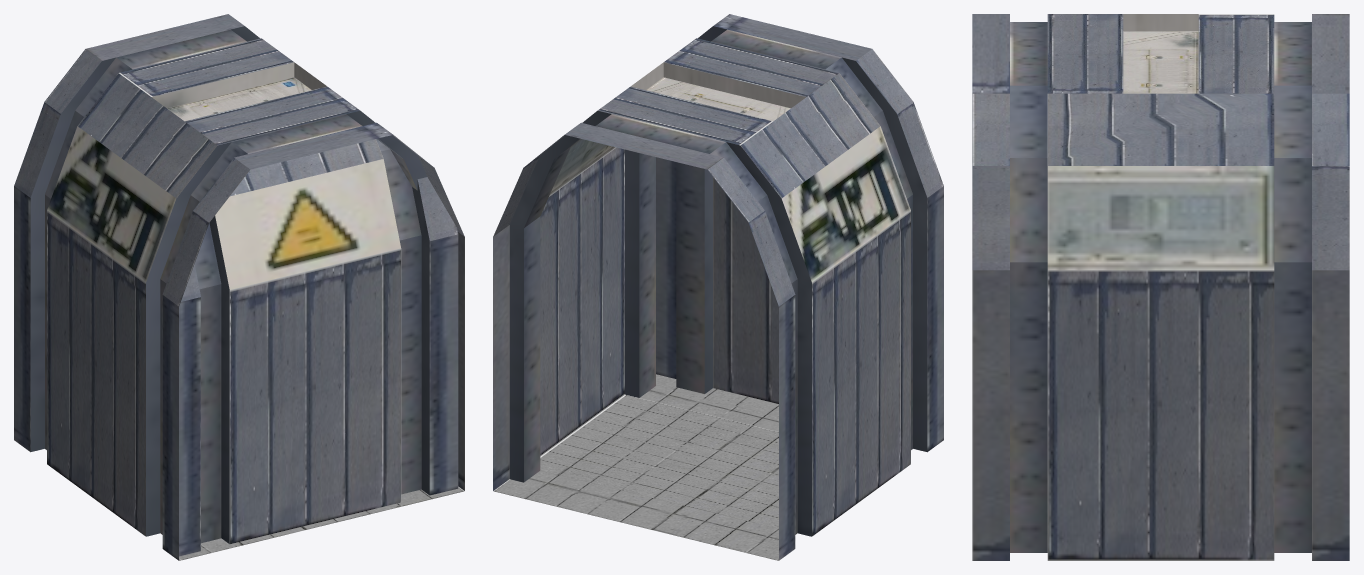
File: end_hallway_2.fbx
The picture shows the model from 3 angles, left to right: view 1: azimuth 30°, elevation 25°; view 2: azimuth 150°, elevation 25°; view 3: azimuth 270°, elevation 25°; orthographic projection. The views are drawn at different scales.
Visible parts, largest first — view 1: Plane.001; view 2: Plane.001; view 3: Plane.001.
Part boxes in pixels (x1,y1,x2,y2): Plane.001: (14, 14, 464, 560); Plane.001: (493, 14, 943, 560); Plane.001: (972, 14, 1349, 560).
Size of the model in its own units: 200 by 250 by 200.
